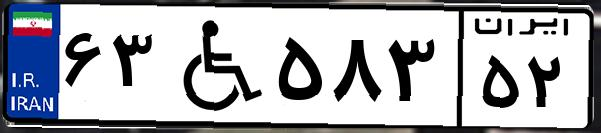2: (525, 38, 570, 115)
3: (385, 28, 445, 110), (110, 28, 158, 98)
5: (270, 28, 330, 110), (475, 38, 525, 113)
6: (57, 26, 110, 100)
8: (330, 28, 385, 110)
ژ (معلولین و جانبازان): (158, 12, 270, 120)
